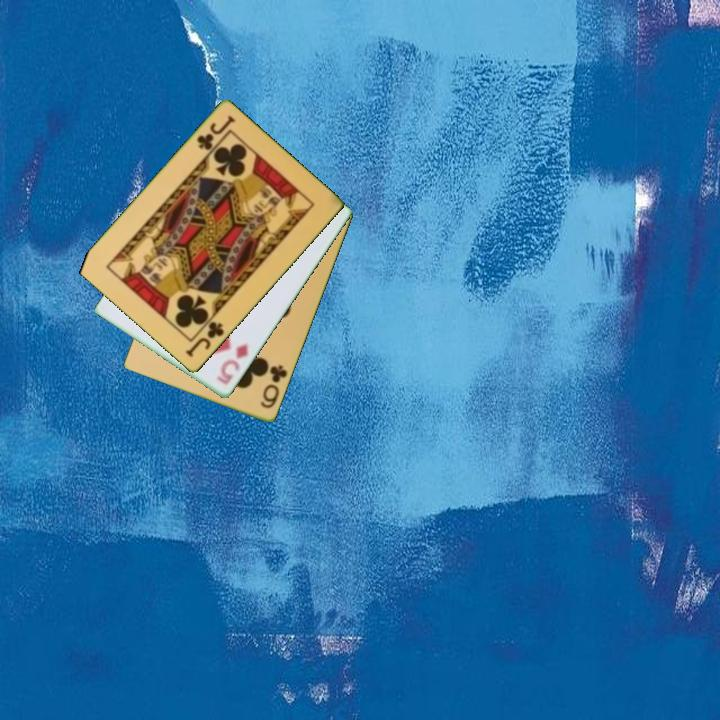5d: (213, 340, 251, 388)
6c: (257, 361, 291, 412)
Jc: (182, 318, 227, 361), (193, 112, 238, 154)
